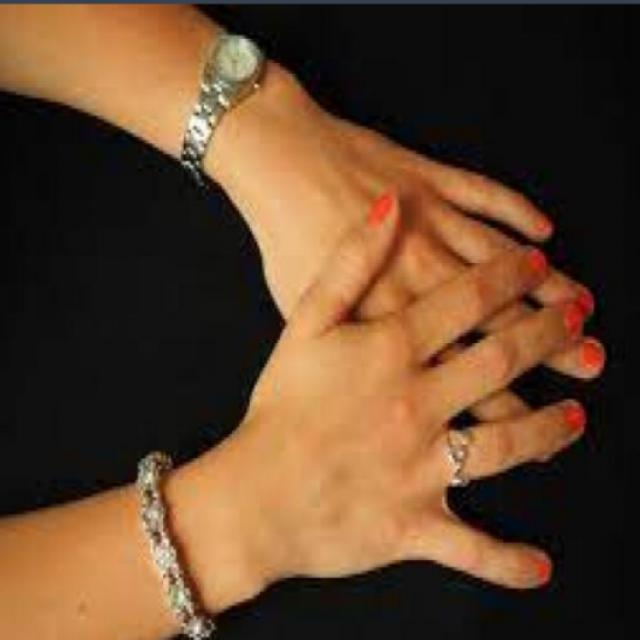Watch: (171, 25, 267, 178)
